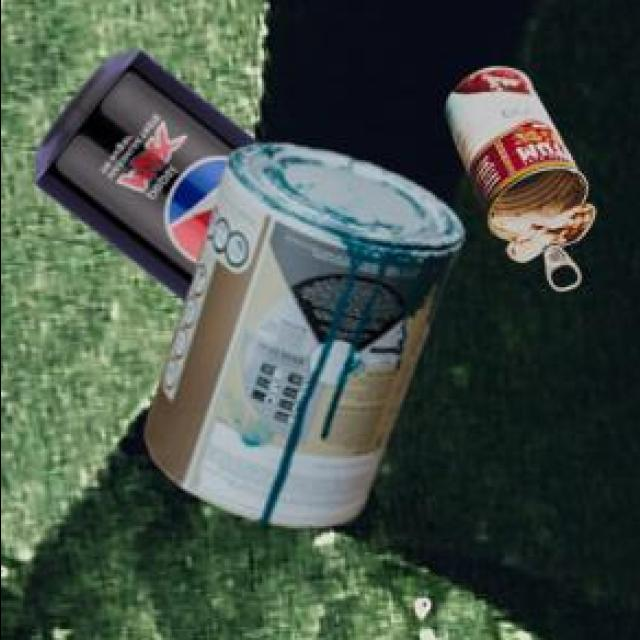logam: (148, 148, 466, 532), (38, 54, 262, 306), (448, 71, 597, 293)
